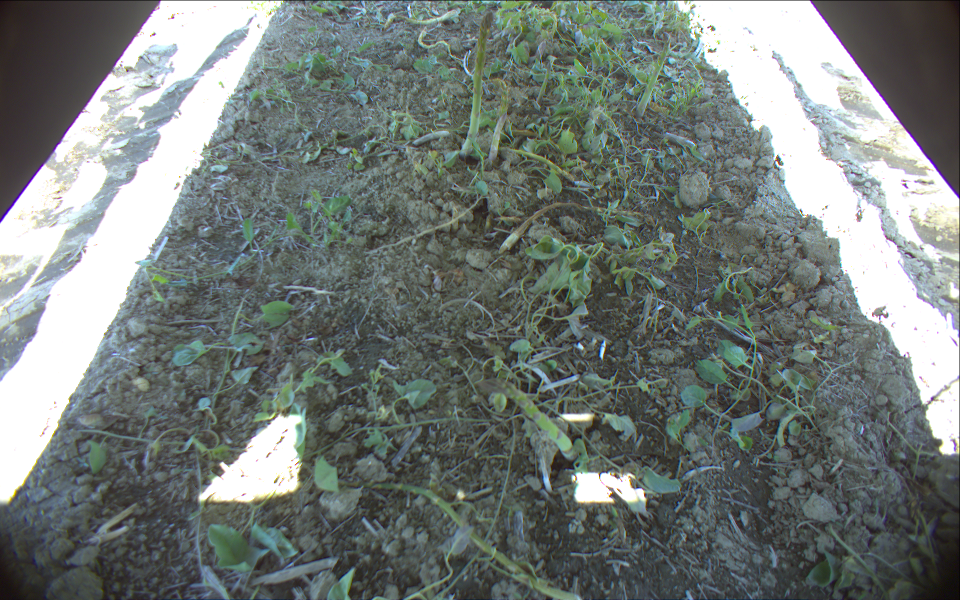aspa: (472, 371, 579, 463), (455, 10, 496, 157), (637, 40, 671, 117)
